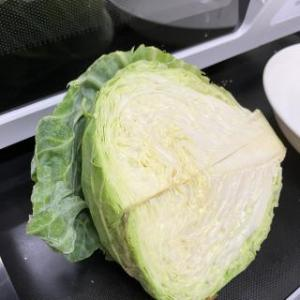cabbage: (23, 44, 287, 300)
